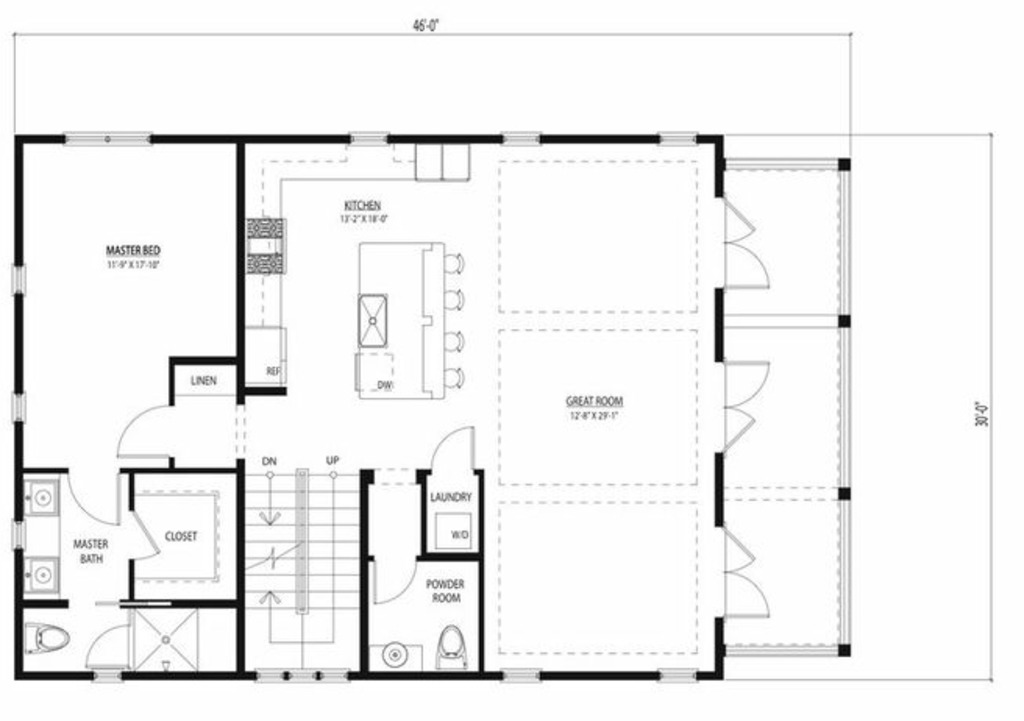door: (715, 196, 771, 290), (720, 358, 771, 455), (721, 527, 772, 622), (113, 402, 174, 464), (63, 467, 122, 529), (80, 621, 133, 672), (367, 555, 421, 605), (428, 425, 477, 473), (130, 510, 160, 564)
kitchen_bar: (354, 236, 467, 404)
large_sink: (22, 620, 74, 658), (432, 621, 470, 673)
small_sink: (367, 637, 428, 674), (23, 475, 61, 517), (21, 554, 61, 593)
stairs: (241, 453, 365, 673)
windows: (60, 129, 154, 149), (654, 127, 702, 150), (498, 128, 541, 150), (499, 666, 542, 686), (344, 132, 393, 148), (8, 264, 29, 296), (659, 667, 698, 683), (12, 391, 25, 425)
